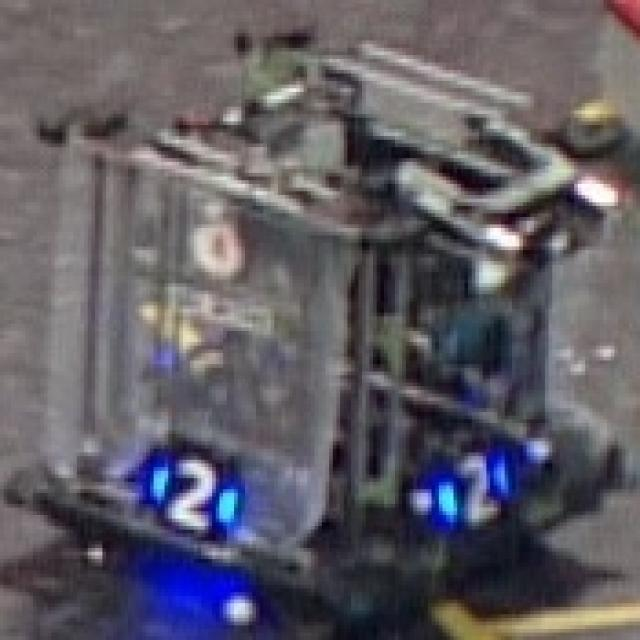B2: (428, 441, 519, 530), (143, 456, 241, 533)
